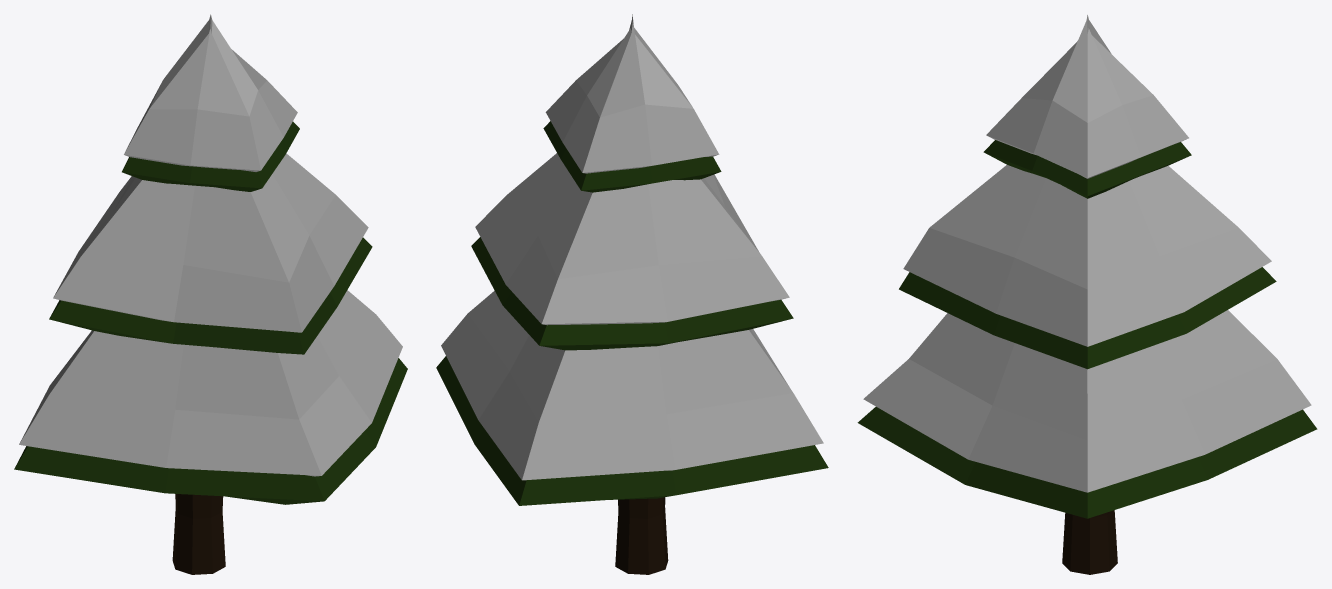
Rendered from tree-snow.obj.
3 renders of one model, left to right at view 1: azimuth 30°, elevation 25°; view 2: azimuth 150°, elevation 25°; view 3: azimuth 270°, elevation 25°, orthographic.
Parts seen in each view (by area): view 1: Tree_-_Snow_Cylinder.000; view 2: Tree_-_Snow_Cylinder.000; view 3: Tree_-_Snow_Cylinder.000.
Boxes of the visible parts, box(x1,y1,x2,y2) form: Tree_-_Snow_Cylinder.000: box(14, 14, 407, 574); Tree_-_Snow_Cylinder.000: box(436, 14, 828, 574); Tree_-_Snow_Cylinder.000: box(857, 15, 1317, 574).
Size of the model in its own units: 3.61 by 4.79 by 3.61.
